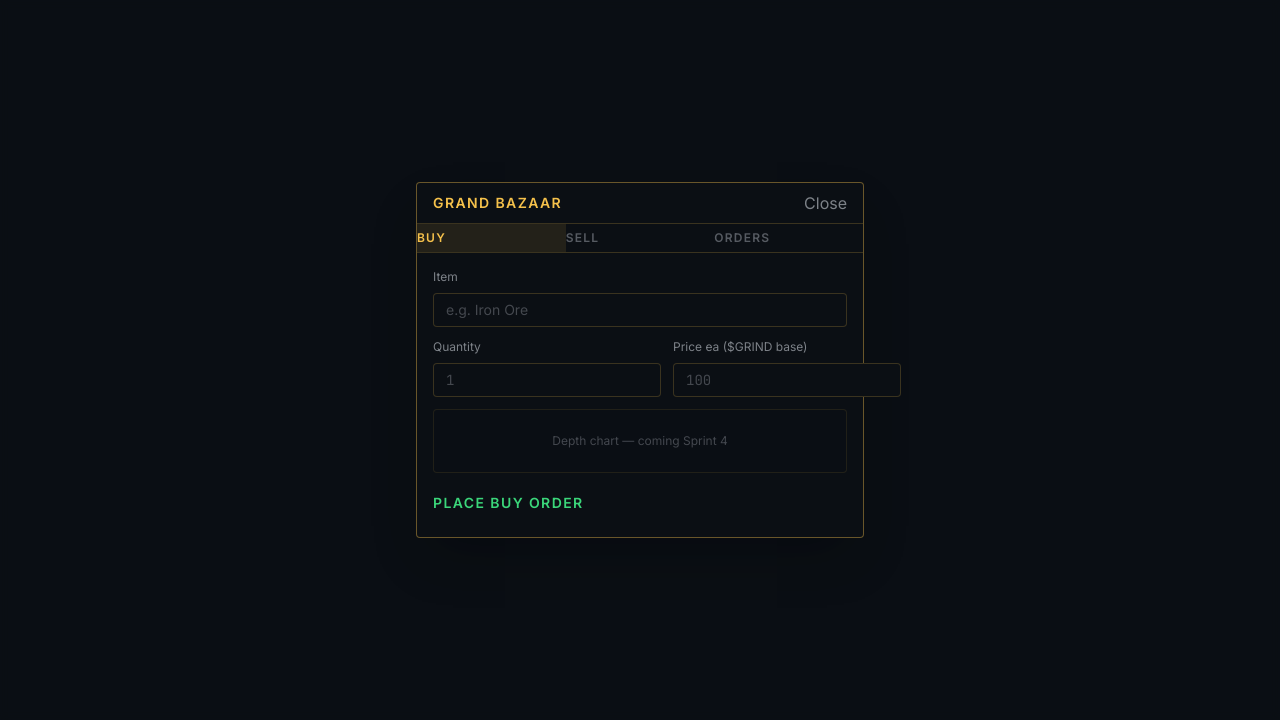
Test: GrandBazaar › shows error when price is zero
This screenshot has width=1280, height=720.
Type "Iron Ore" into the field with test id "ge-item-input". click: {"x": 640, "y": 310}
box: [433, 293, 847, 327]
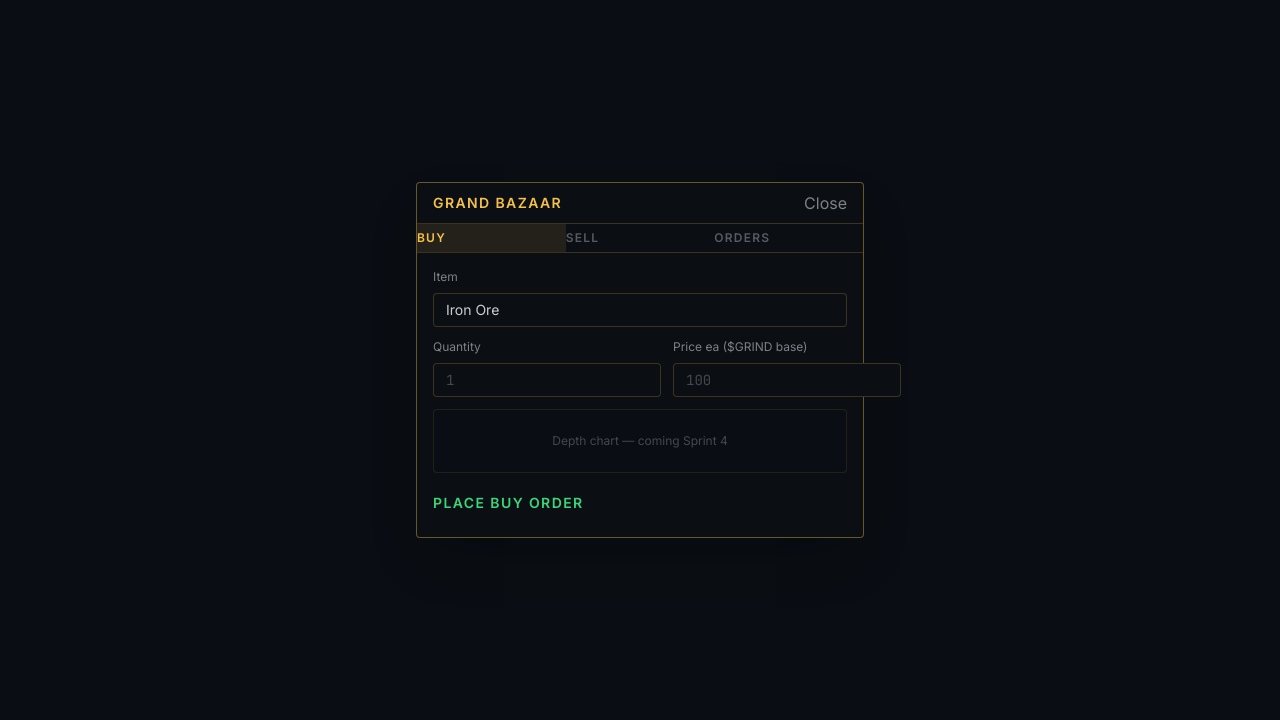
Type "5" into the number field with test id "ge-qty-input". click: {"x": 547, "y": 380}
box: [433, 363, 661, 397]
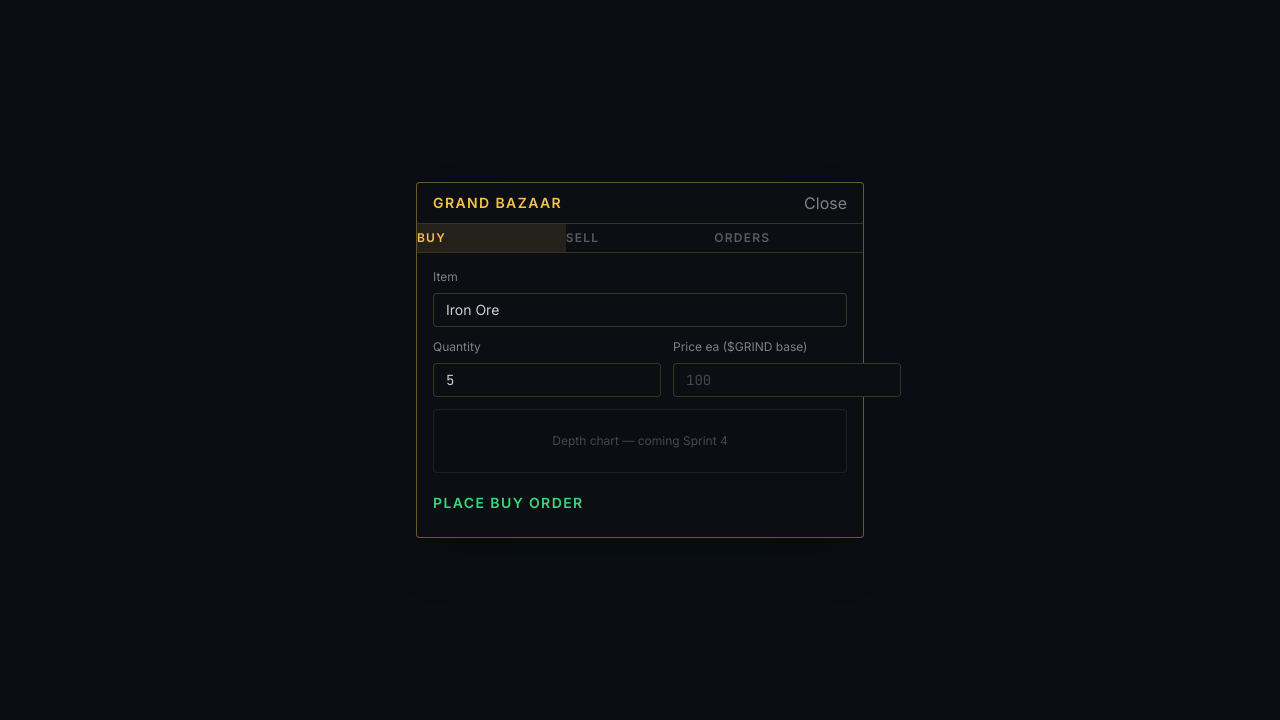
Type "0" into the number field with test id "ge-price-input". click: {"x": 787, "y": 380}
box: [673, 363, 901, 397]
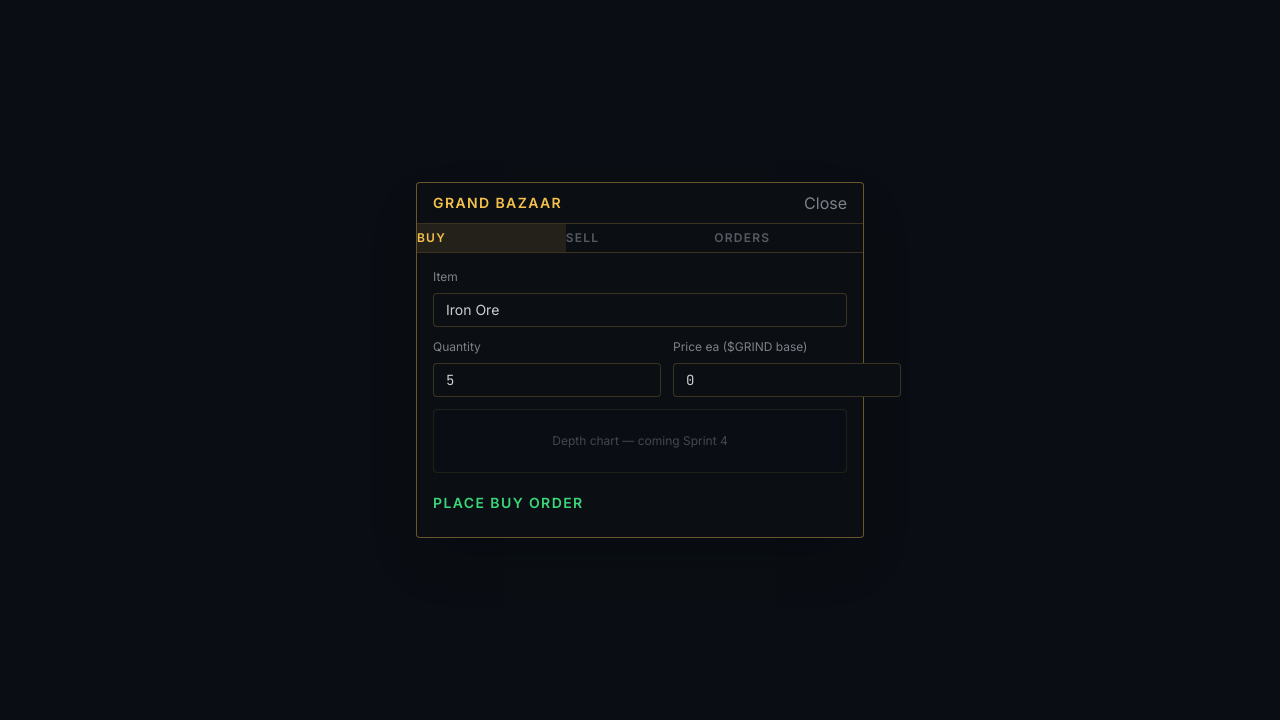
Click the button with test id "ge-submit". click: {"x": 462, "y": 502}
box: [433, 485, 847, 521]
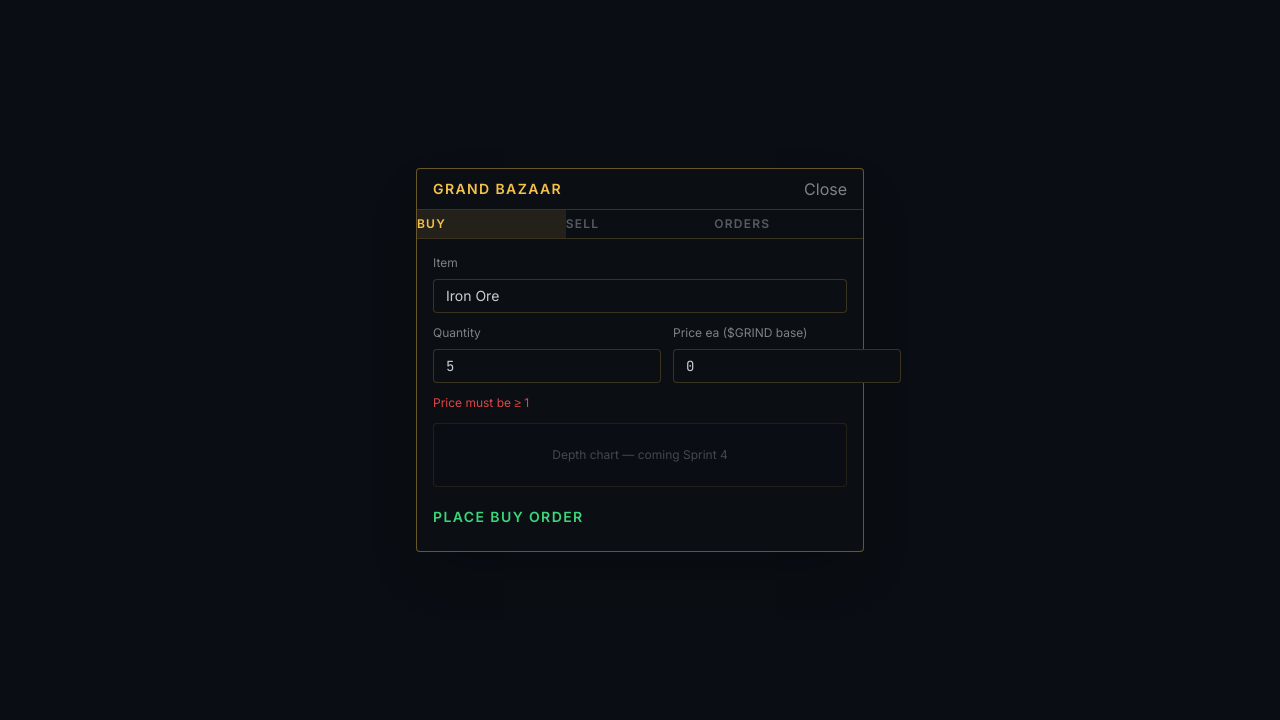
Expected: the text with test id "ge-error" shows "Price must be", [433, 395, 529, 410]
